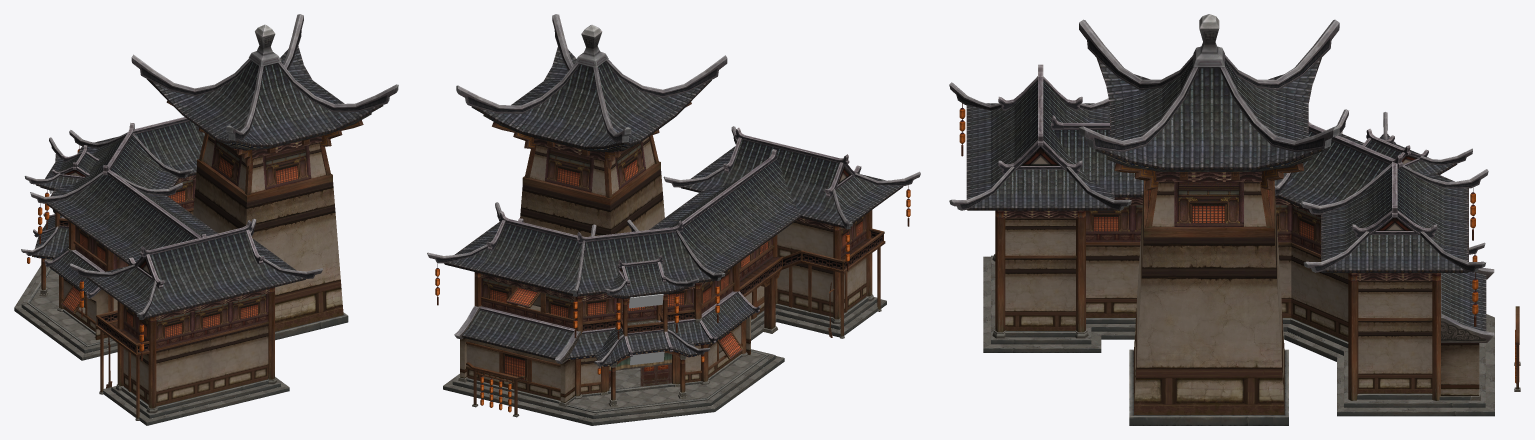
Rendered from s7_unioncity_jianzhu_kezhan.FBX.
3 renders of one model, left to right at view 1: azimuth 30°, elevation 25°; view 2: azimuth 150°, elevation 25°; view 3: azimuth 270°, elevation 25°, orthographic. The views are drawn at different scales.
Parts seen in each view (by area): view 1: 6, 9; view 2: 6, 9, Object01; view 3: 6, 9.
Boxes of the visible parts, x1,y1,x2,y2 form: 6: (14, 14, 398, 425); 9: (14, 259, 289, 422); 6: (427, 14, 920, 425); 9: (443, 297, 886, 422); Object01: (629, 294, 664, 365); 6: (949, 14, 1520, 425); 9: (983, 255, 1494, 411).
Size of the model in its own units: 33871 by 29904 by 40951.
